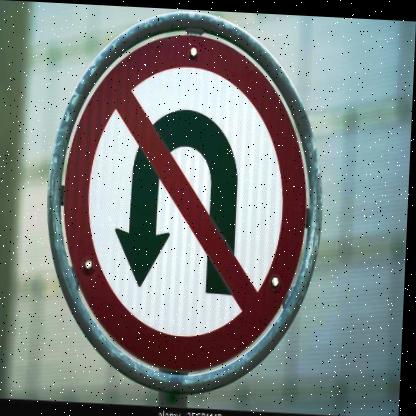No U-turn: (60, 29, 319, 381)
